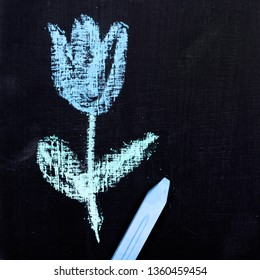flower: (33, 12, 159, 246)
